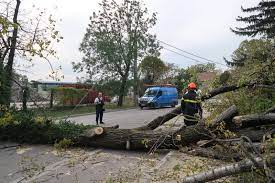car: (137, 83, 179, 110)
obstacle: (1, 109, 275, 158)
person: (181, 82, 202, 131), (94, 89, 106, 127)
